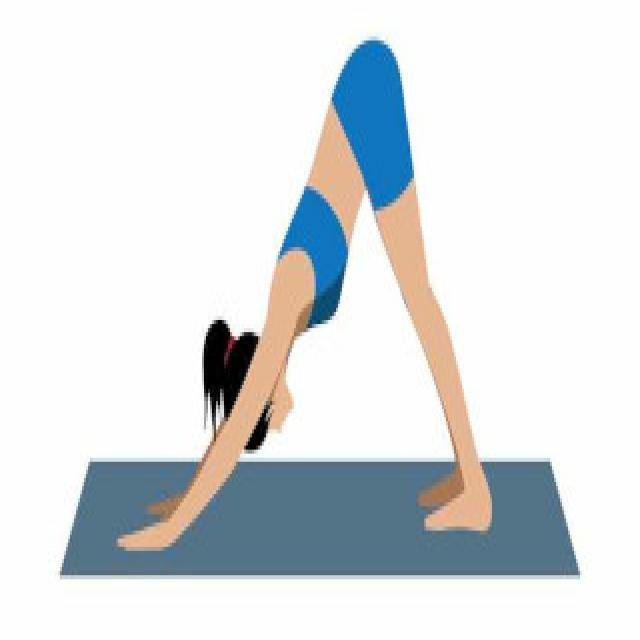yoga-pose downward: (117, 39, 496, 557)
